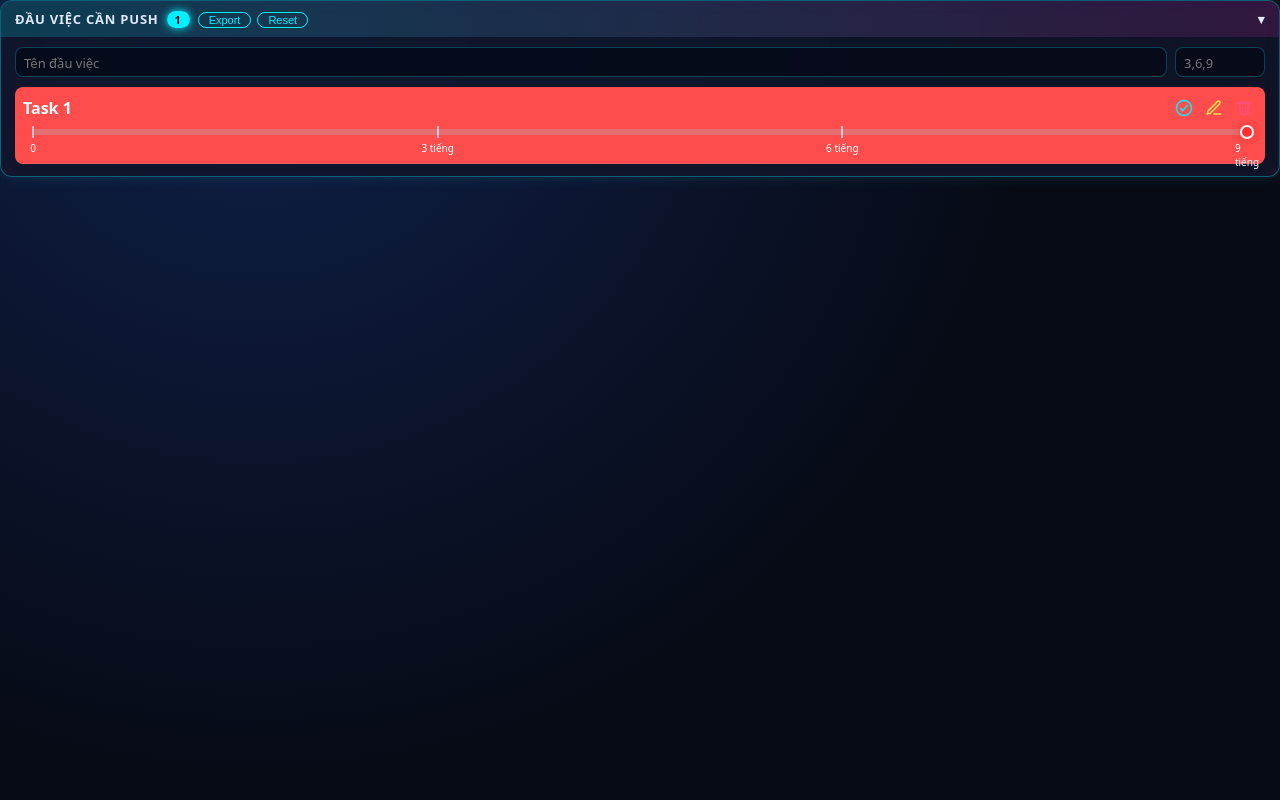
Test case: PushTaskPanel › xóa task đang sửa thì thoát chế độ sửa (sau khi xác nhận)
Check: the text "Task 1" is shown, box [23,97,72,119]
What coordinates should you click on to do the following:
click the button named "Sửa giờ push"
I would click on:
 (1214, 108)
Its box is [1201,95,1227,121].
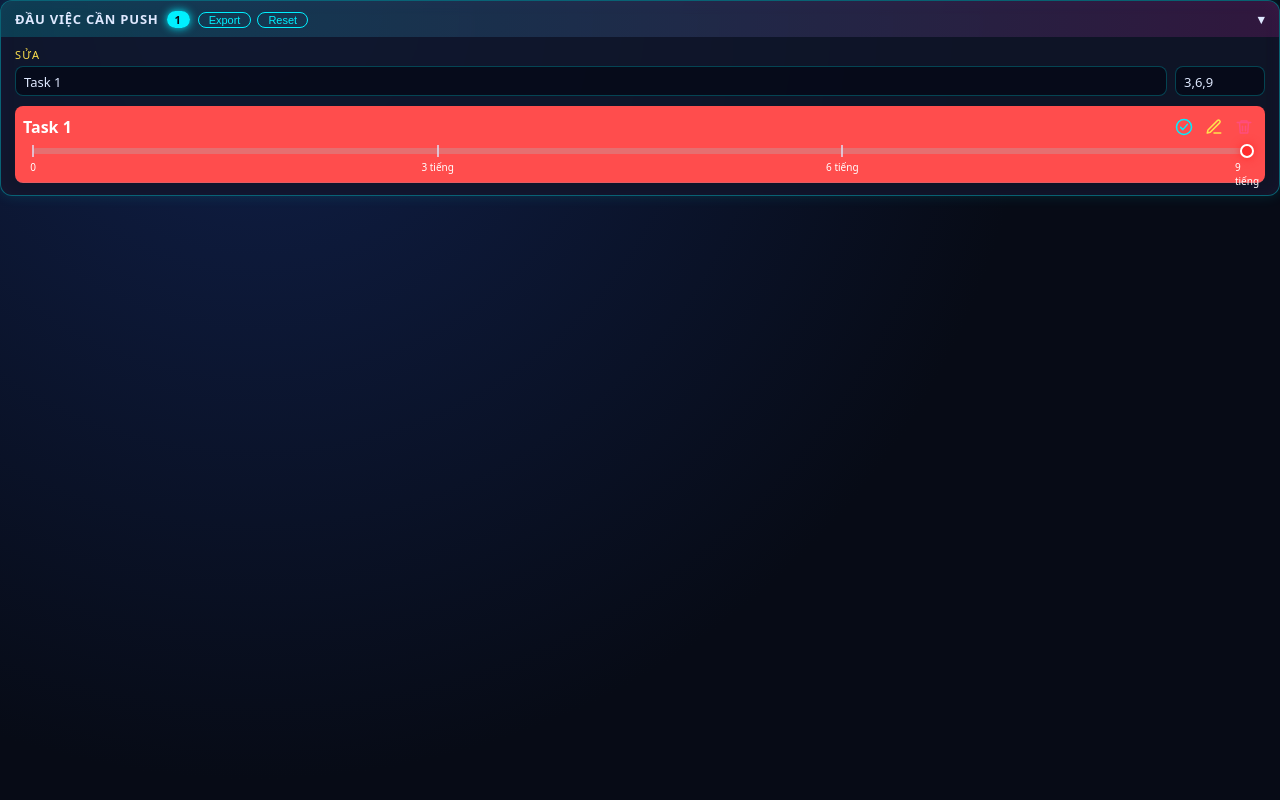
What coordinates should you click on to do the following:
click the button named "Xóa đầu việc"
I would click on:
 (1244, 127)
Its box is [1231,114,1257,140].
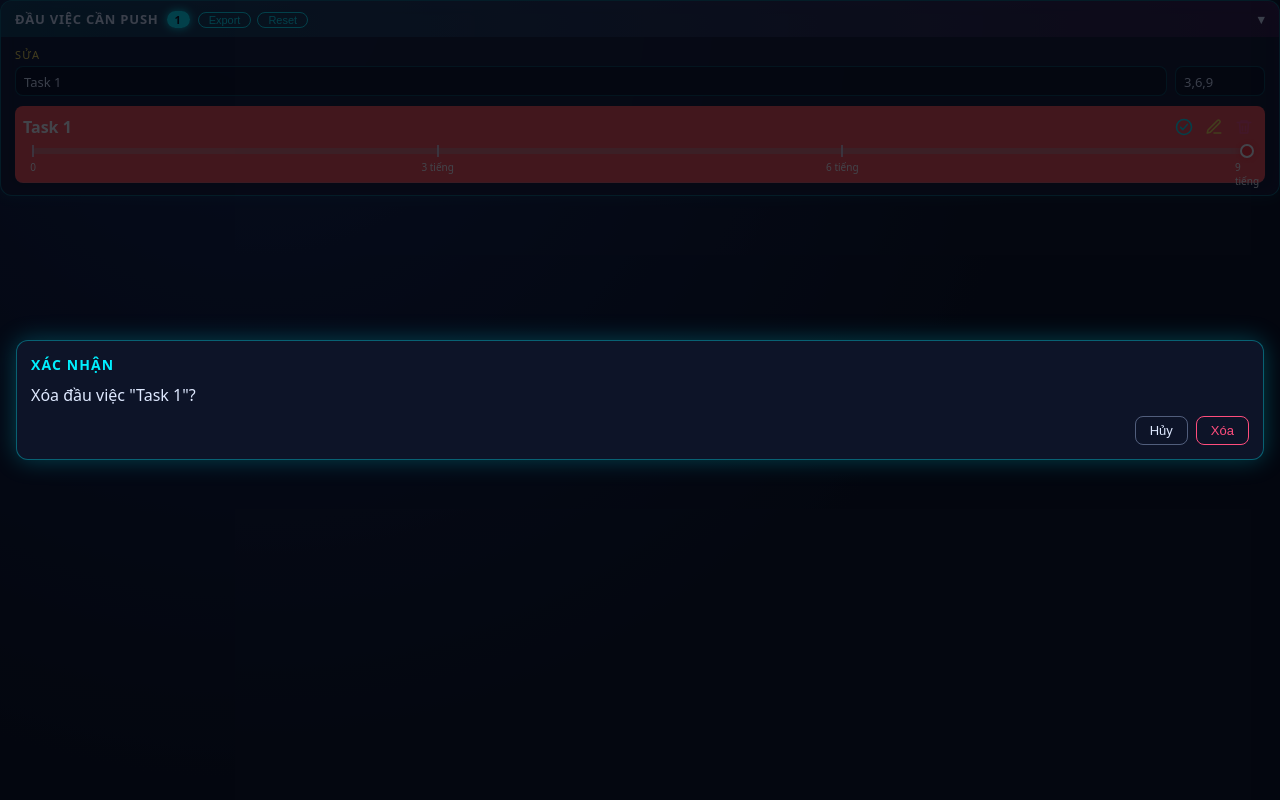
What coordinates should you click on to do the following:
click the button "Xóa"
I would click on:
 (1222, 430)
Its box is [1196,416,1249,445].
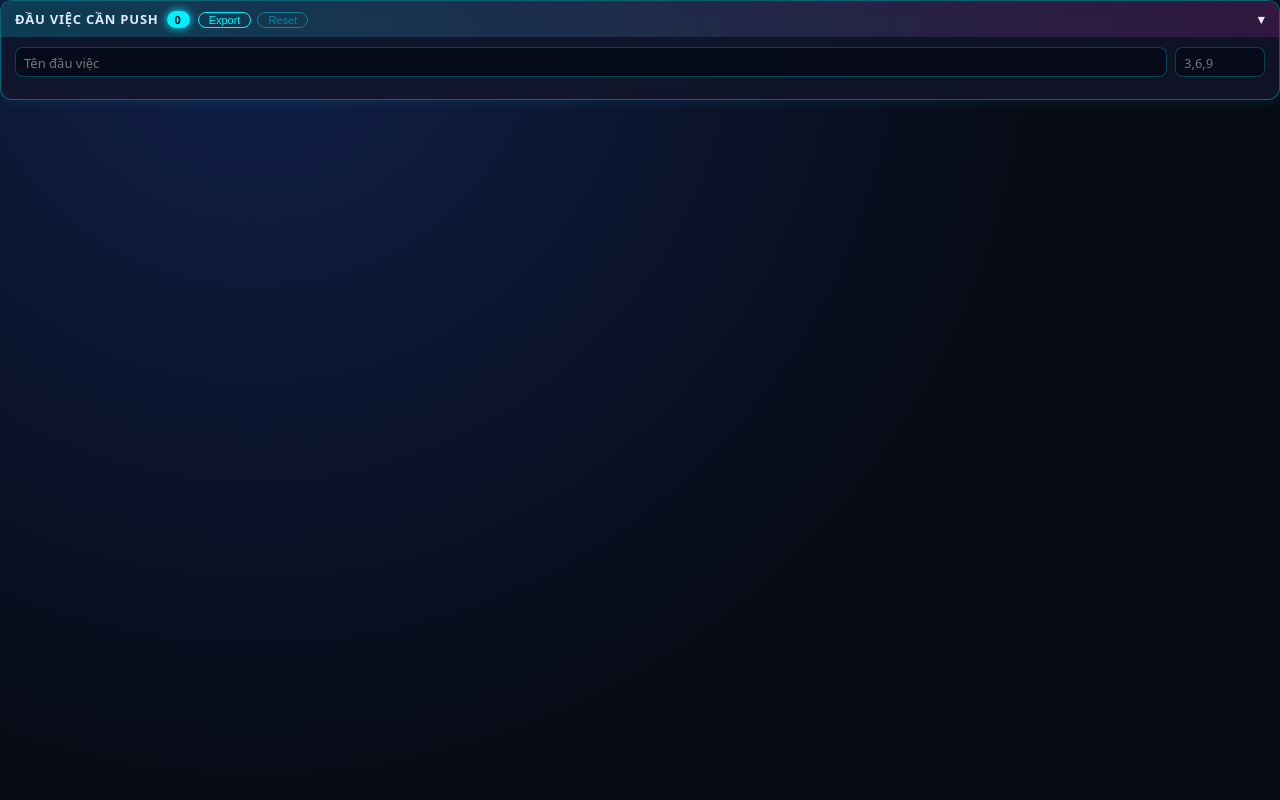
Check: the text "Sửa" is gone
